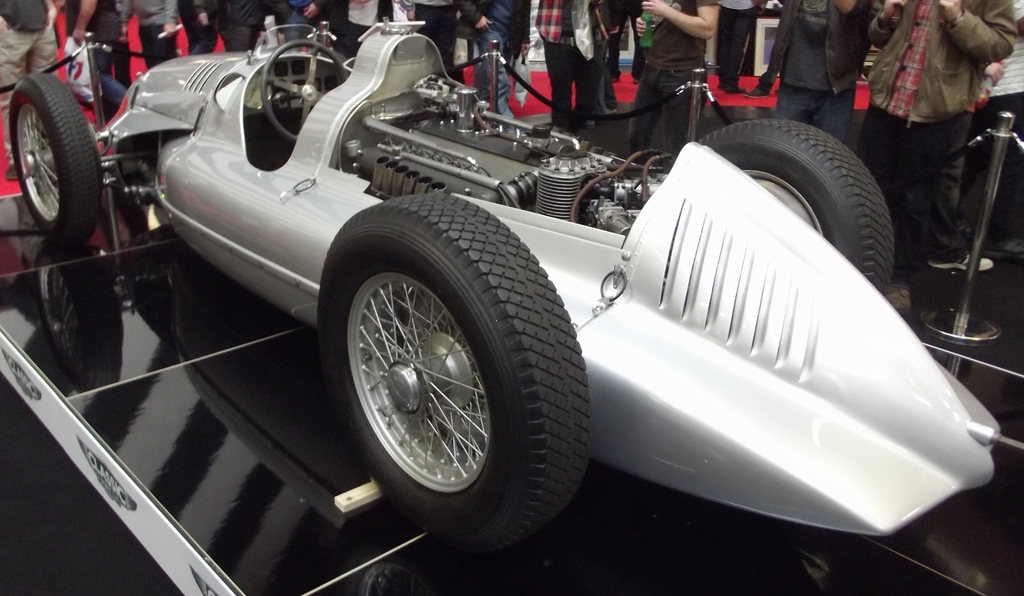cars: (143, 0, 954, 578)
